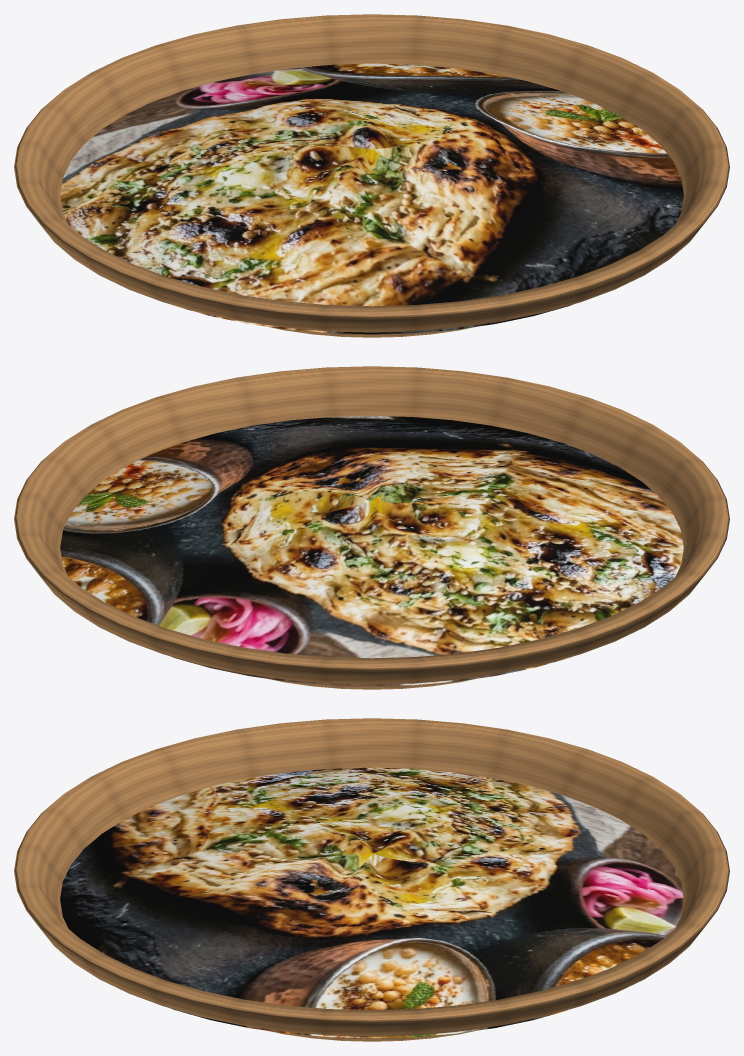
File: amritsari-kulcha.glb
The picture shows the model from 3 angles, top to bottom: view 1: azimuth 30°, elevation 25°; view 2: azimuth 150°, elevation 25°; view 3: azimuth 270°, elevation 25°; orthographic projection.
Visible parts, largest first — view 1: FoodMound, BambooBowl; view 2: FoodMound, BambooBowl; view 3: FoodMound, BambooBowl.
Boxes of the visible parts, bbox=[...] form: FoodMound: bbox=[60, 63, 683, 334]; BambooBowl: bbox=[14, 14, 729, 337]; FoodMound: bbox=[60, 416, 683, 686]; BambooBowl: bbox=[14, 366, 729, 689]; FoodMound: bbox=[60, 767, 683, 1038]; BambooBowl: bbox=[14, 718, 729, 1041].
Bounding box in the file's own units: 0.27 × 0.04 × 0.27.
Materials: 2 (2 with a texture image).
